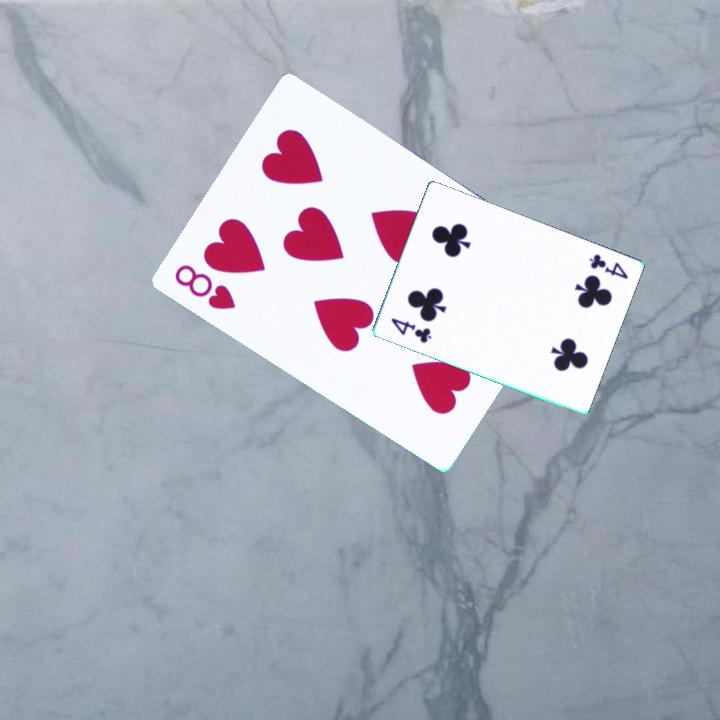4c: (387, 314, 434, 346), (585, 250, 631, 282)
8h: (170, 261, 238, 313)
